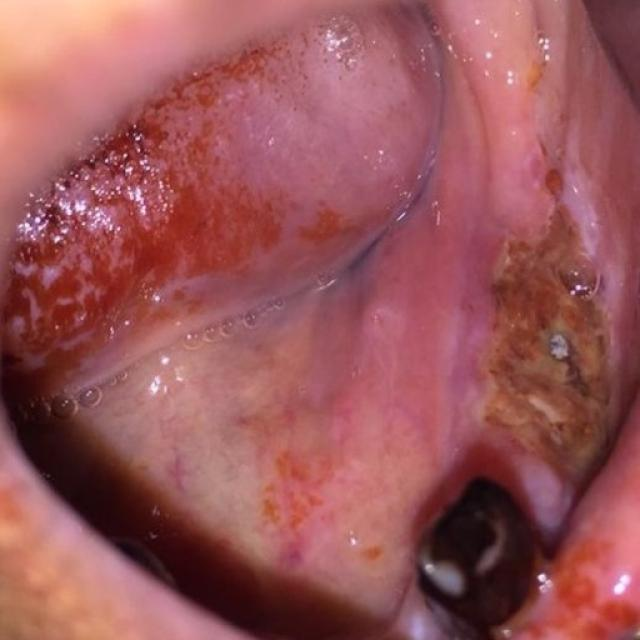cancer-detection: (447, 152, 634, 476)
processing_area: (6, 0, 639, 639)
